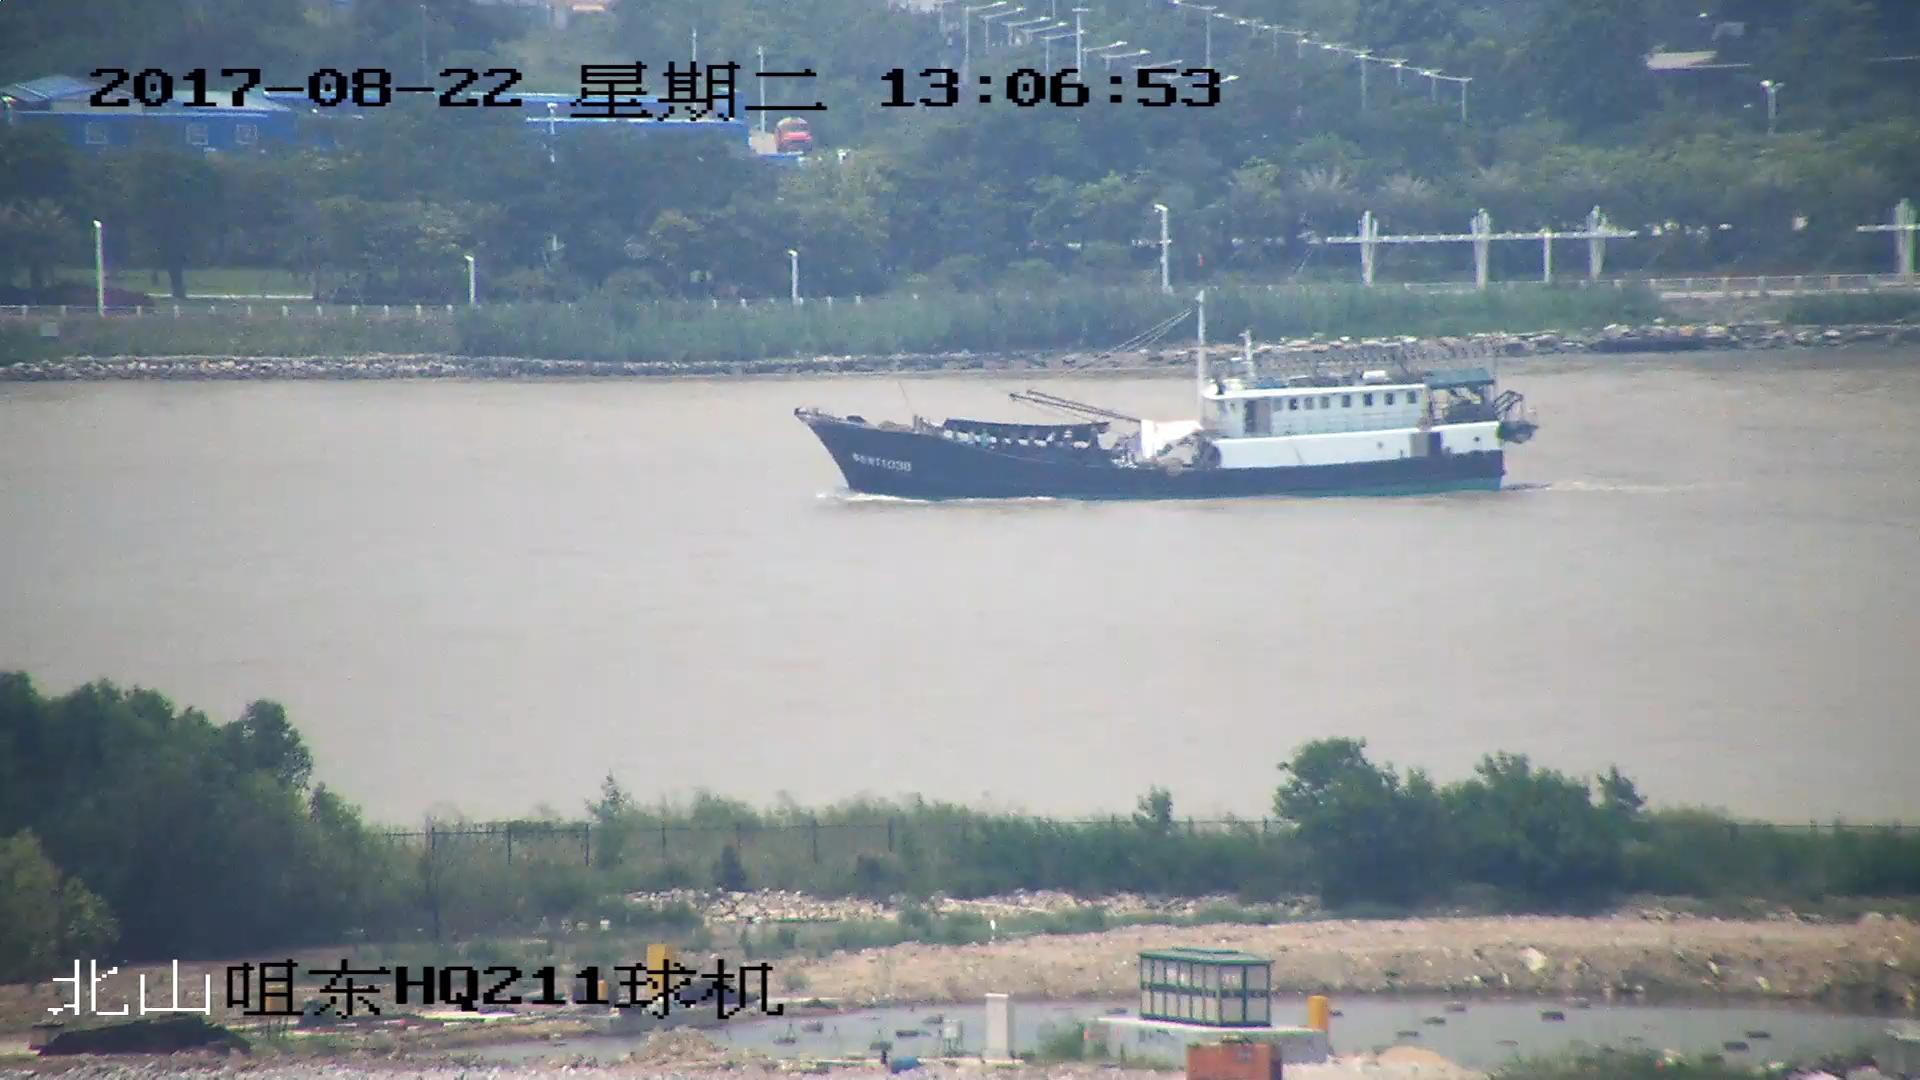fishing boat: (799, 291, 1537, 493)
